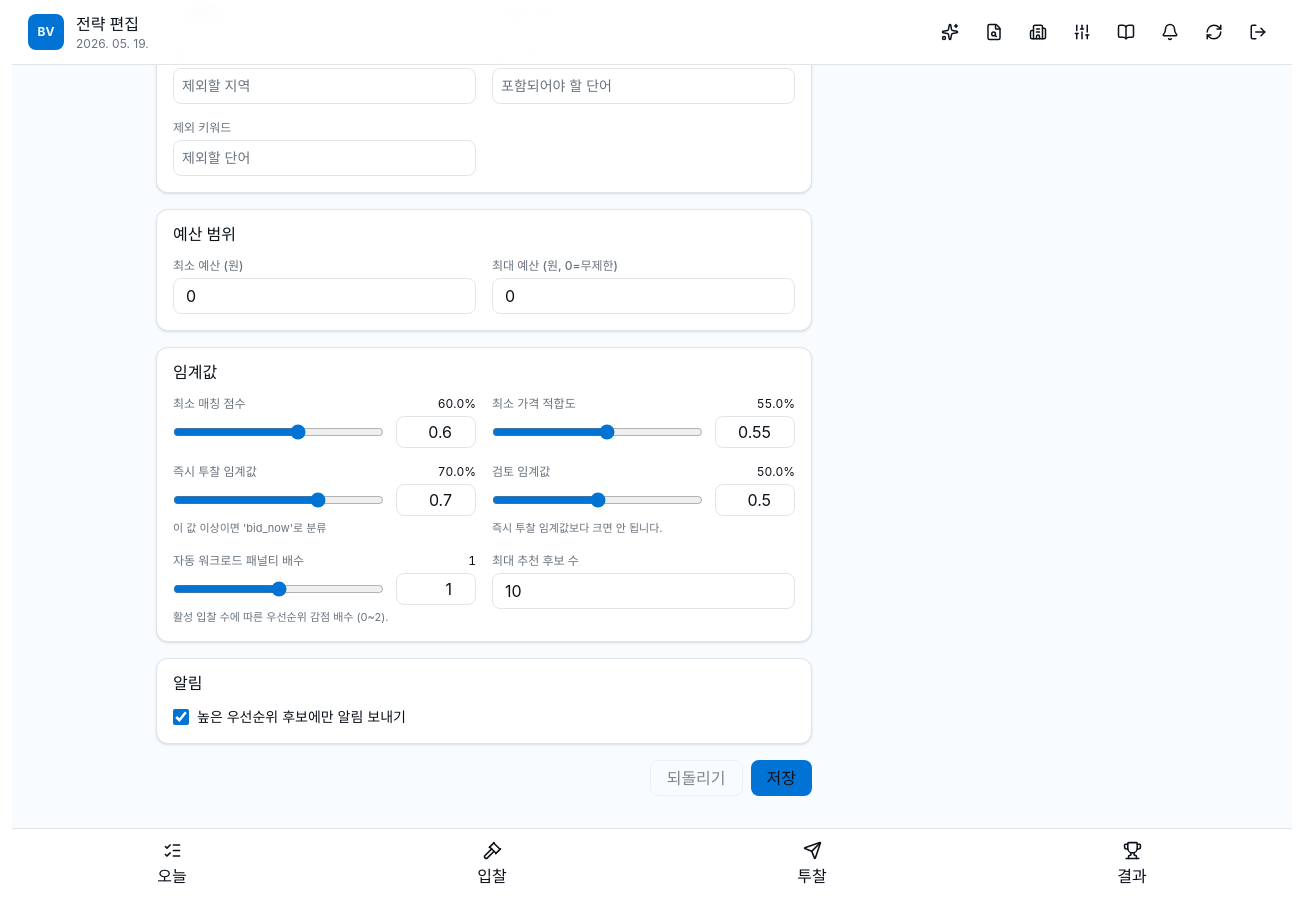
StrategyEditor › 저장이 서버 측에서 실패하면 danger toast가 나타난다
(page scrolled)
Check: the number field named "최소 매칭 점수" holds "0.6", box x1=396 y1=416 x2=476 y2=448
Click the button "저장".
click(781, 778)  # box x1=750 y1=760 x2=812 y2=796
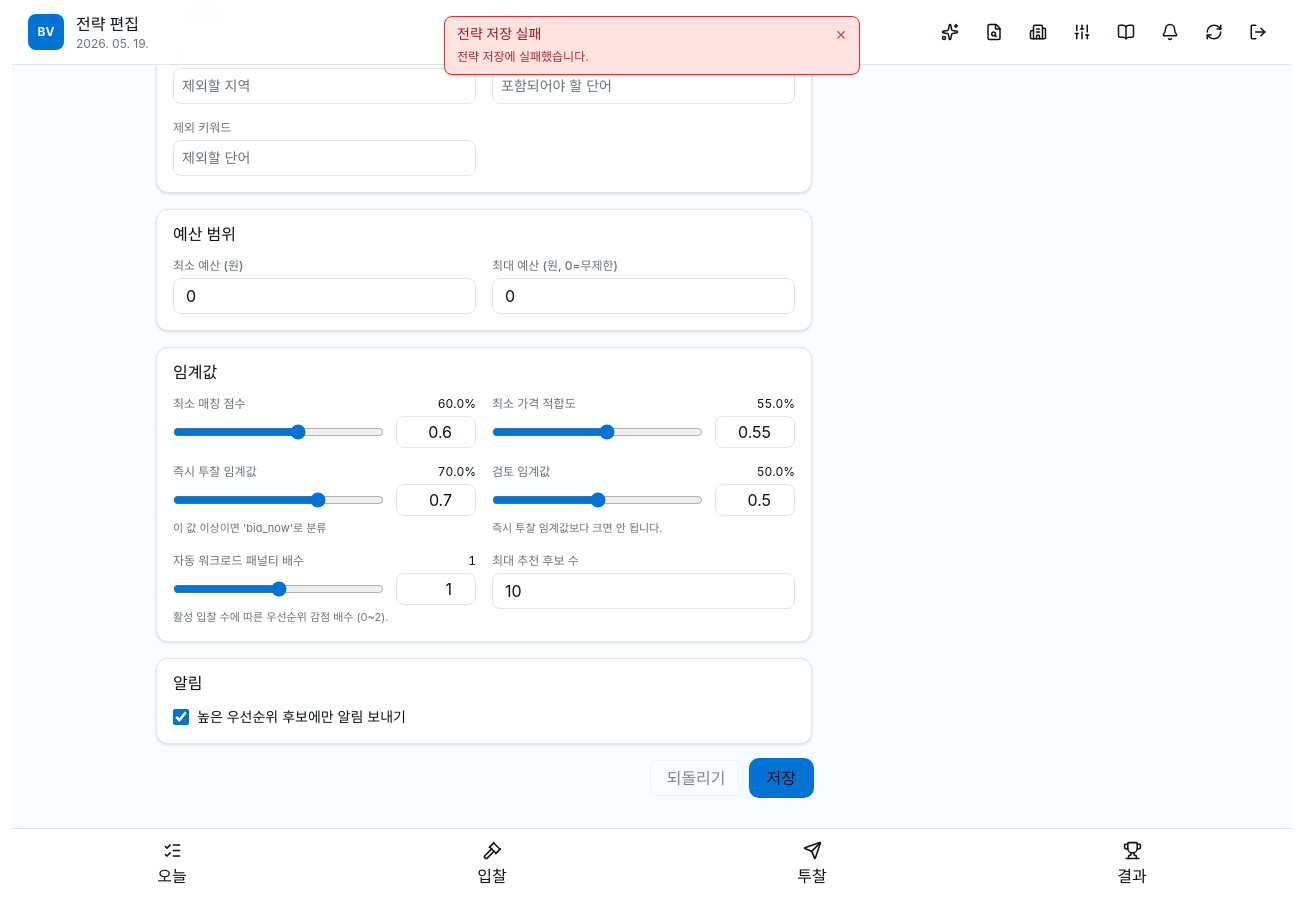
Check: the text "전략 저장 실패" is shown, box x1=457 y1=25 x2=541 y2=42
Check: the text "전략 저장에 실패했습니다." is shown, box x1=457 y1=49 x2=589 y2=64
